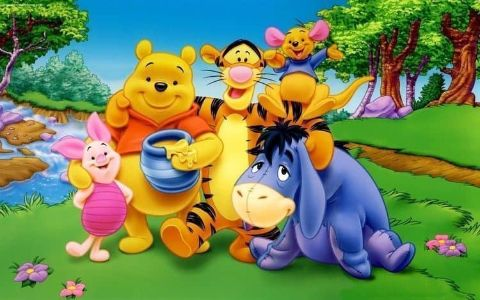bear: (113, 37, 218, 257)
